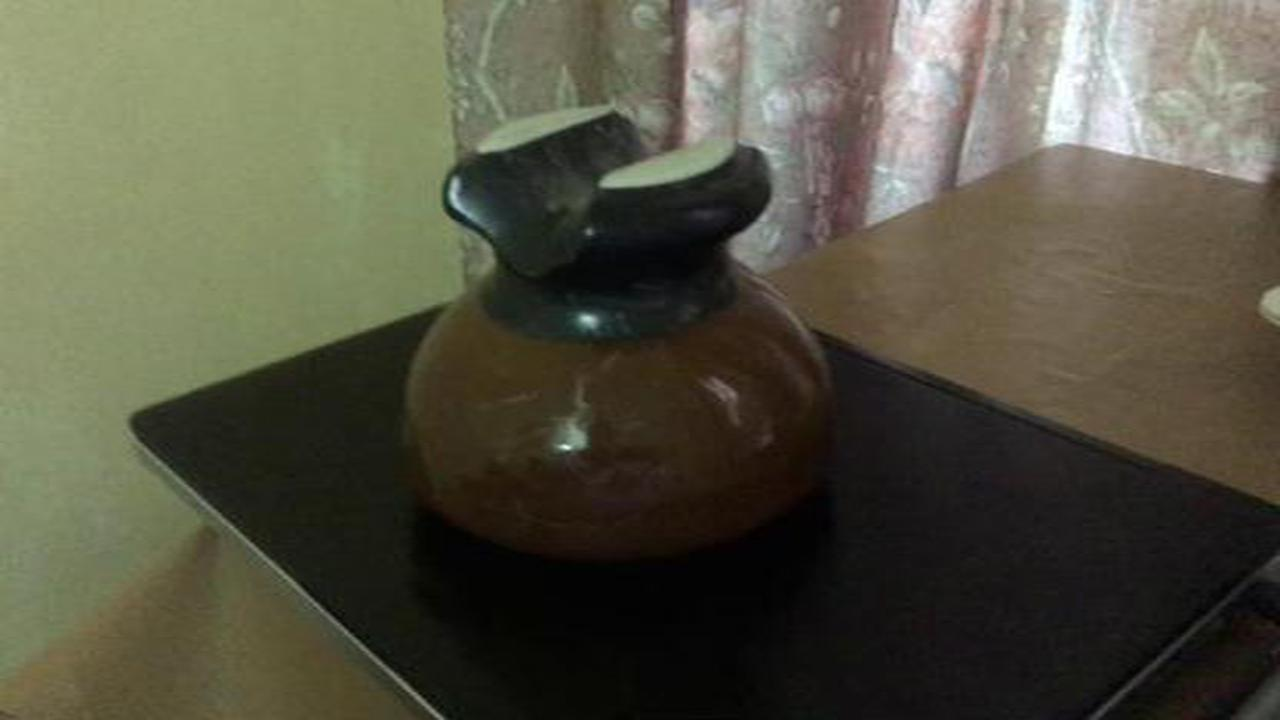insulator_pin: (369, 91, 853, 579)
